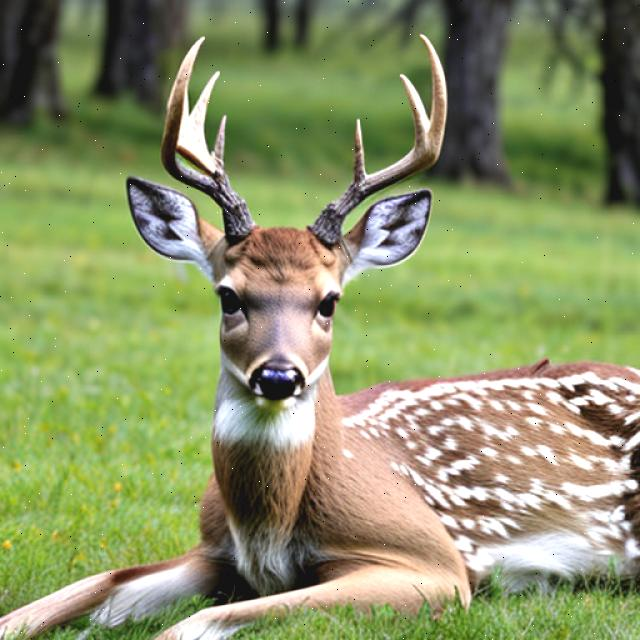deer: (141, 68, 594, 600)
